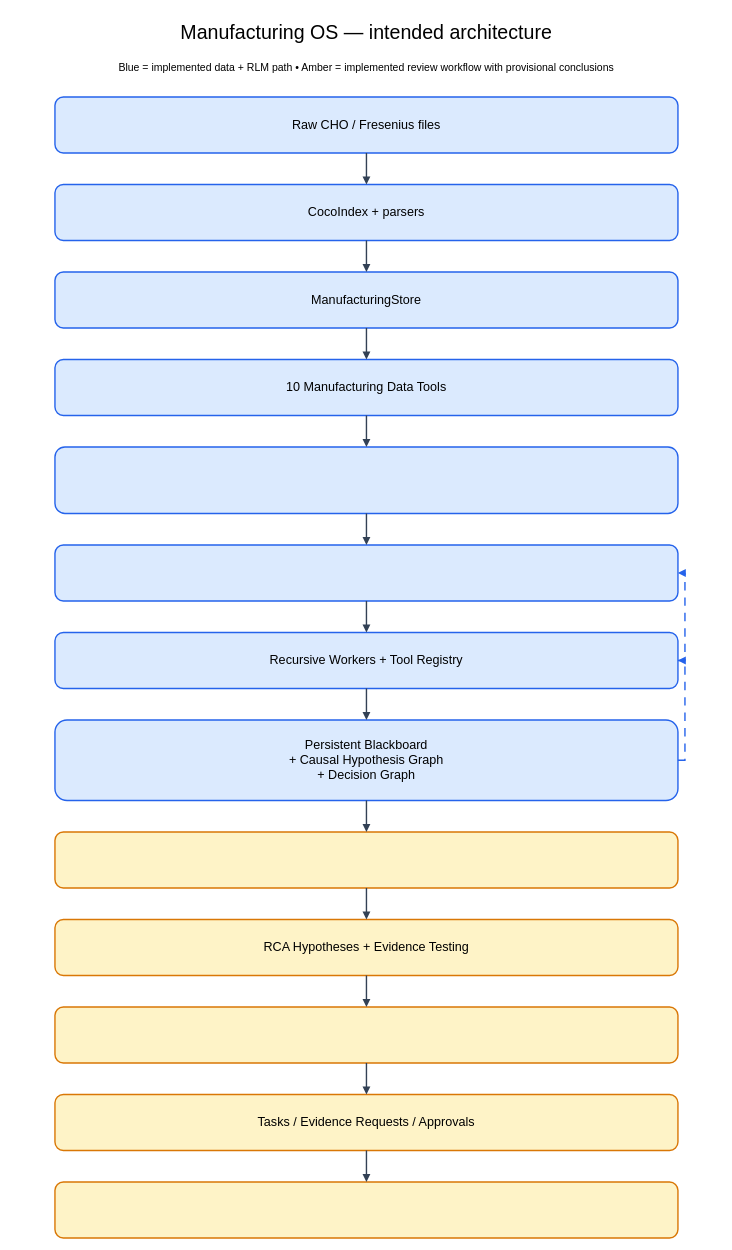
This 732x1250 diagram has some shape labels left out. The shapes that lost their labels are listed below. From the top down, each one's centre as x and y in pixels, then its label:
(x=366, y=480): RolloutEngine role Prime SDK host + scoped bridge
(x=366, y=572): Lead Manufacturing RLM
(x=366, y=859): Deviation Detection / Investigation
(x=366, y=1034): L1 / L2 / L3 Triage
(x=366, y=1209): Investigation Update + Outcome Tracking
